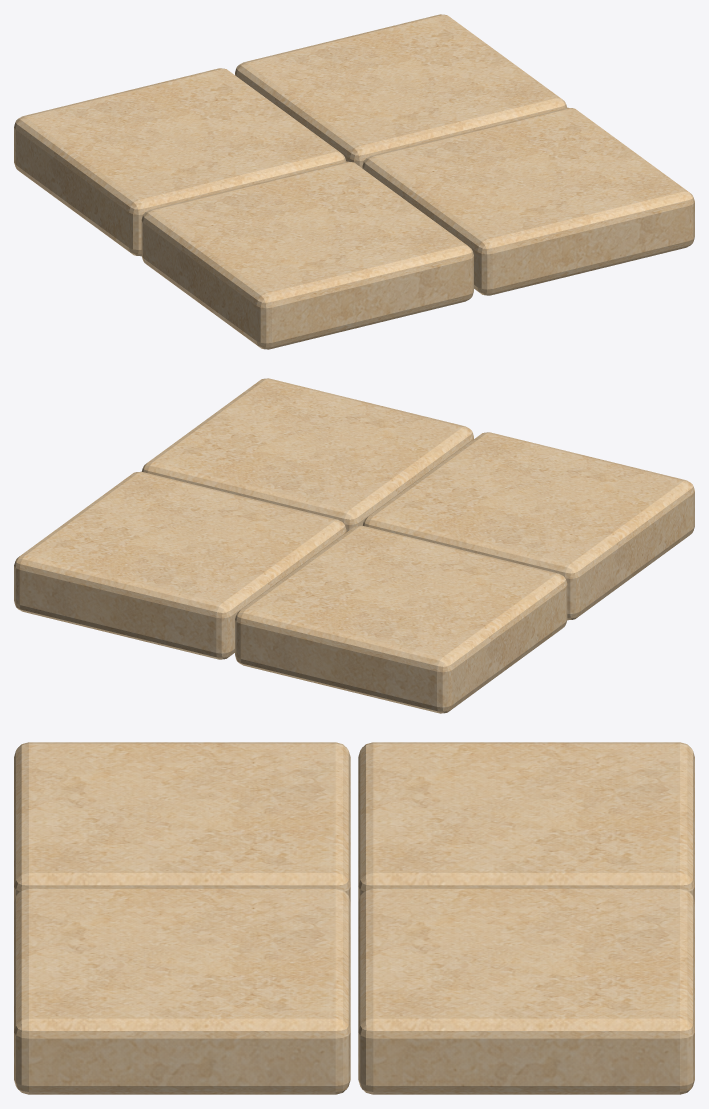
Rendered from paving.glb.
3 renders of one model, top to bottom at view 1: azimuth 30°, elevation 25°; view 2: azimuth 150°, elevation 25°; view 3: azimuth 270°, elevation 25°, orthographic. The views are drawn at different scales.
Visible parts, largest first — view 1: Sandstone slab, Sandstone slab.002, Sandstone slab.001, Sandstone slab.003; view 2: Sandstone slab.001, Sandstone slab.003, Sandstone slab, Sandstone slab.002; view 3: Sandstone slab.002, Sandstone slab.003, Sandstone slab, Sandstone slab.001.
Boxes of the visible parts, left/top/right/bottom form: Sandstone slab: left=141, top=161, right=473, bottom=349; Sandstone slab.002: left=362, top=107, right=694, bottom=295; Sandstone slab.001: left=14, top=68, right=346, bottom=256; Sandstone slab.003: left=235, top=14, right=567, bottom=167; Sandstone slab.001: left=235, top=525, right=567, bottom=713; Sandstone slab.003: left=14, top=471, right=346, bottom=659; Sandstone slab: left=362, top=432, right=694, bottom=620; Sandstone slab.002: left=141, top=378, right=473, bottom=531; Sandstone slab.002: left=14, top=887, right=350, bottom=1094; Sandstone slab.003: left=358, top=887, right=694, bottom=1094; Sandstone slab: left=14, top=742, right=350, bottom=901; Sandstone slab.001: left=358, top=742, right=694, bottom=901.
Size of the model in its own units: 0.989 by 0.12 by 0.989.
Materials: 1 (1 with a texture image).
